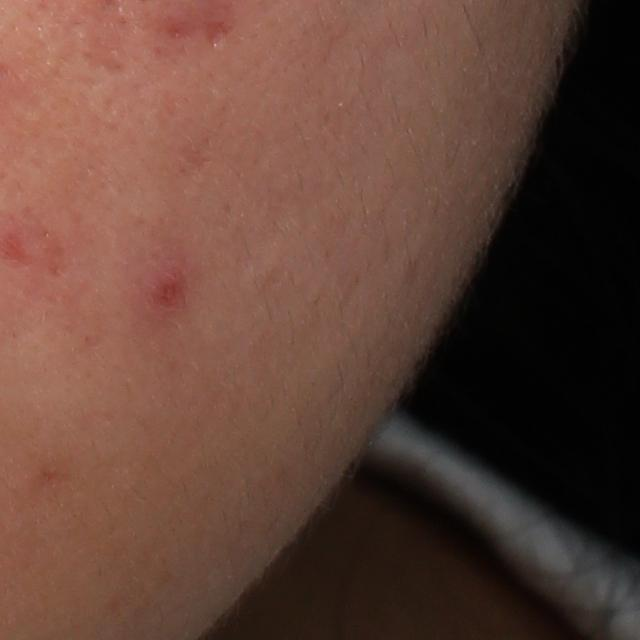atrophic_scar: (205, 18, 235, 53)
papule: (129, 248, 194, 330)
